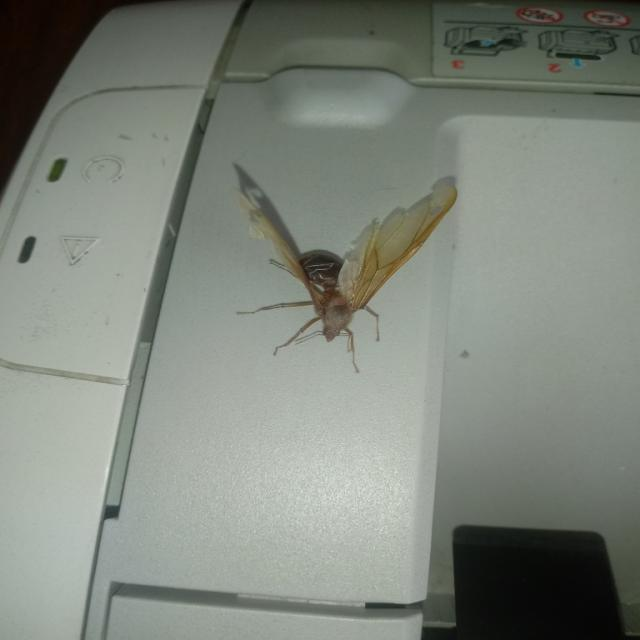Alive-Male-Alate: (232, 185, 458, 374)
